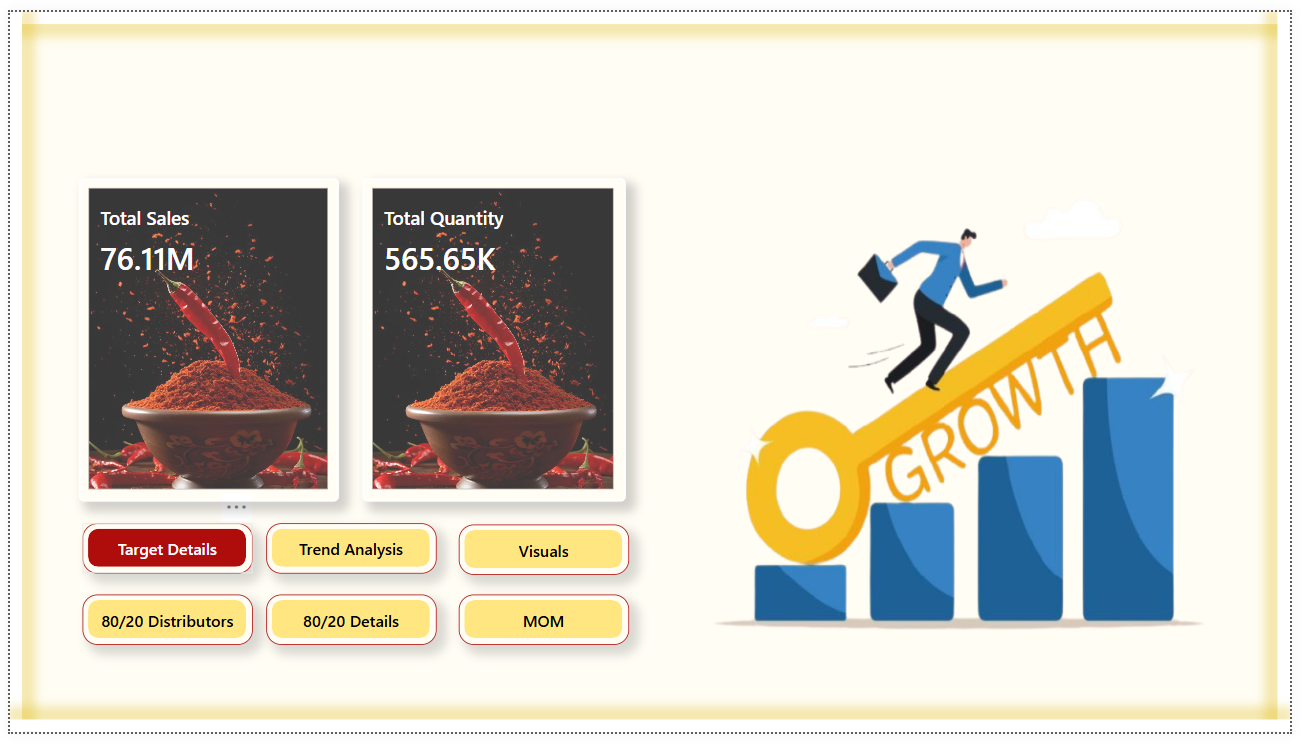

The dashboard page shown, as its layout file describes it:
{"tool":"powerbi","page":{"name":"Home","canvas":[1280,720],"ordinal":0},"visuals":[{"type":"image","box":[654.3,165.7,594.3,495.7],"z":1000},{"type":"shape","box":[0,0,1280.3,12.2],"z":2000},{"type":"shape","box":[0,0,12.2,720.2],"z":3000},{"type":"actionButton","box":[72.8,510.8,170,50],"z":4000},{"type":"actionButton","box":[256.5,510.8,170,50],"z":5000},{"type":"actionButton","box":[449.4,512.2,170,50],"z":6000},{"type":"actionButton","box":[72.2,582.2,170,50],"z":7000},{"type":"actionButton","box":[256.5,582.2,170,50],"z":8000},{"type":"actionButton","box":[449.4,582.2,170,50],"z":9000},{"type":"cardVisual","title":"Total Sales","fields":{"Data":["DAX.Total Sales"]},"box":[68.5,165.7,260,322.9],"z":10000},{"type":"cardVisual","title":"Total Quantity","fields":{"Data":["DAX.Total Quantity"]},"box":[352.8,165.7,262.9,322.9],"z":11000},{"type":"shape","box":[1268.1,0,12.2,720.2],"z":14000},{"type":"shape","box":[0,708,1280.3,12.2],"z":15000}]}

Visuals, with their boxes in screenshot pixels (x1, y1, x2, y2), scaled from the page's 1280x720 canvas onto the 1310x745 screenshot:
image: 670, 171, 1278, 684
shape: 0, 0, 1309, 13
shape: 0, 0, 12, 744
actionButton: 75, 529, 248, 580
actionButton: 263, 529, 436, 580
actionButton: 460, 530, 634, 582
actionButton: 74, 602, 248, 654
actionButton: 263, 602, 436, 654
actionButton: 460, 602, 634, 654
"Total Sales" cardVisual: 70, 171, 336, 506
"Total Quantity" cardVisual: 361, 171, 630, 506
shape: 1298, 0, 1309, 744
shape: 0, 733, 1309, 744
